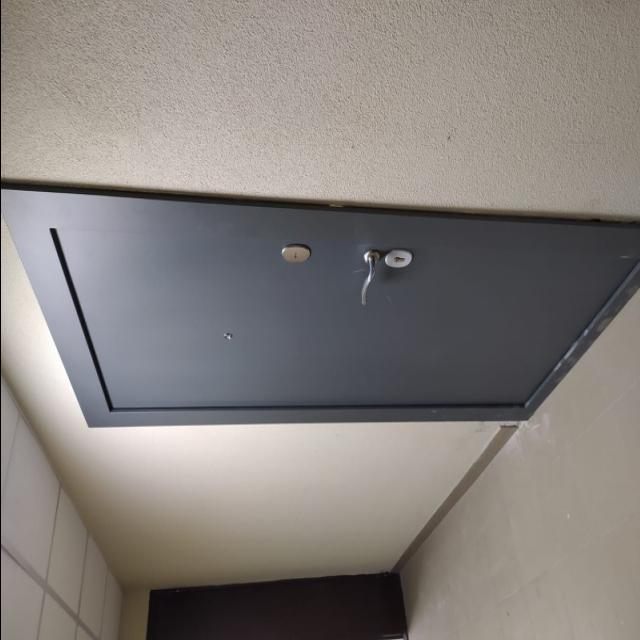close: (48, 196, 626, 418)
